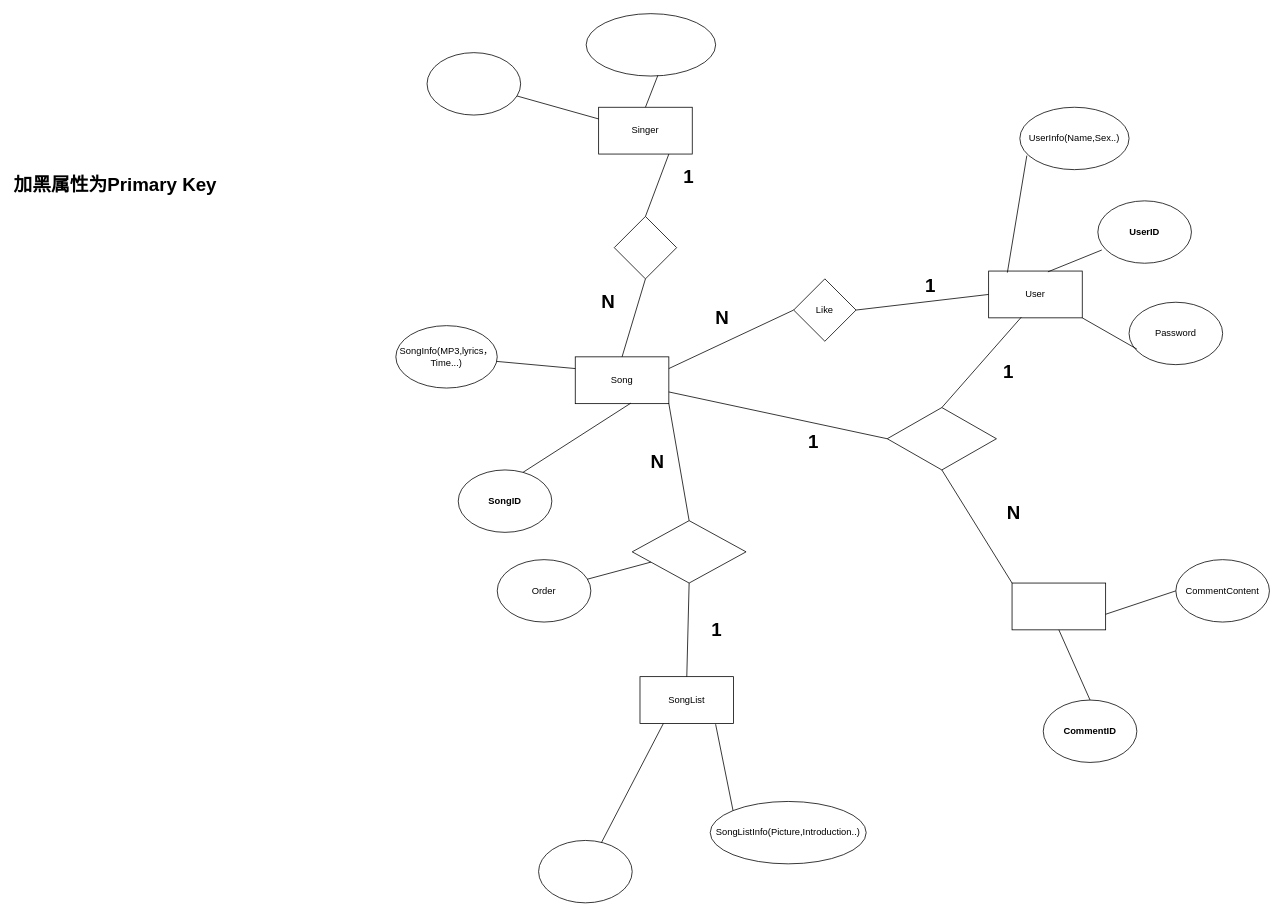
Image size: 1283x916. Some labels were removed from this diagram. The shapes that lost their labels are listed below. From the top down, each one's box as (x1, y1, x2, y2) in pixels, then its label:
(585, 13, 716, 76): SingerInfo(Photo,Introduction..)
(426, 52, 521, 115): SingerID
(613, 216, 677, 279): Belongs
(886, 407, 996, 470): CommentOn
(631, 520, 746, 583): Contains
(1011, 582, 1106, 630): Comment
(538, 840, 632, 903): SongListID
